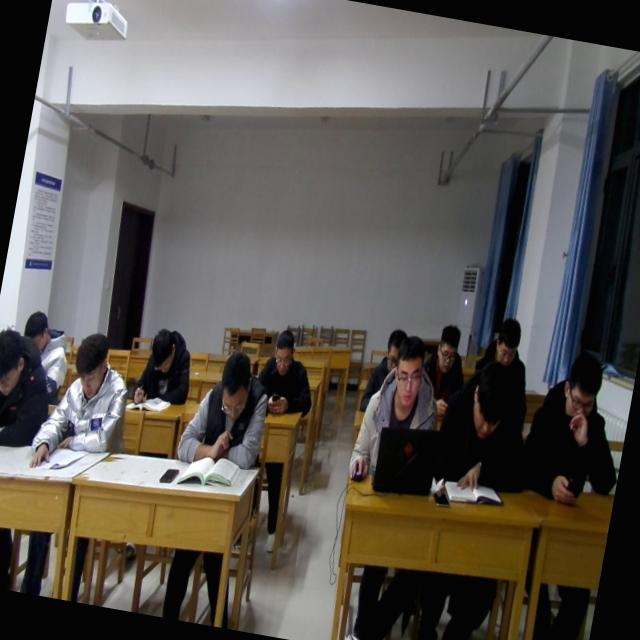bow: (0, 325, 61, 463)
down: (465, 361, 517, 444), (556, 344, 611, 422), (65, 328, 113, 402), (210, 348, 256, 424), (388, 333, 432, 410), (0, 318, 30, 394), (144, 322, 182, 378), (20, 305, 57, 357), (430, 318, 463, 372), (268, 324, 298, 379), (491, 313, 525, 361), (378, 320, 409, 369)
sit: (516, 347, 634, 512), (344, 330, 454, 494), (25, 326, 136, 482), (428, 348, 538, 500), (173, 344, 277, 478), (251, 324, 324, 422), (470, 308, 542, 406), (10, 310, 76, 410), (130, 322, 200, 412), (416, 320, 475, 421), (358, 321, 410, 419)
